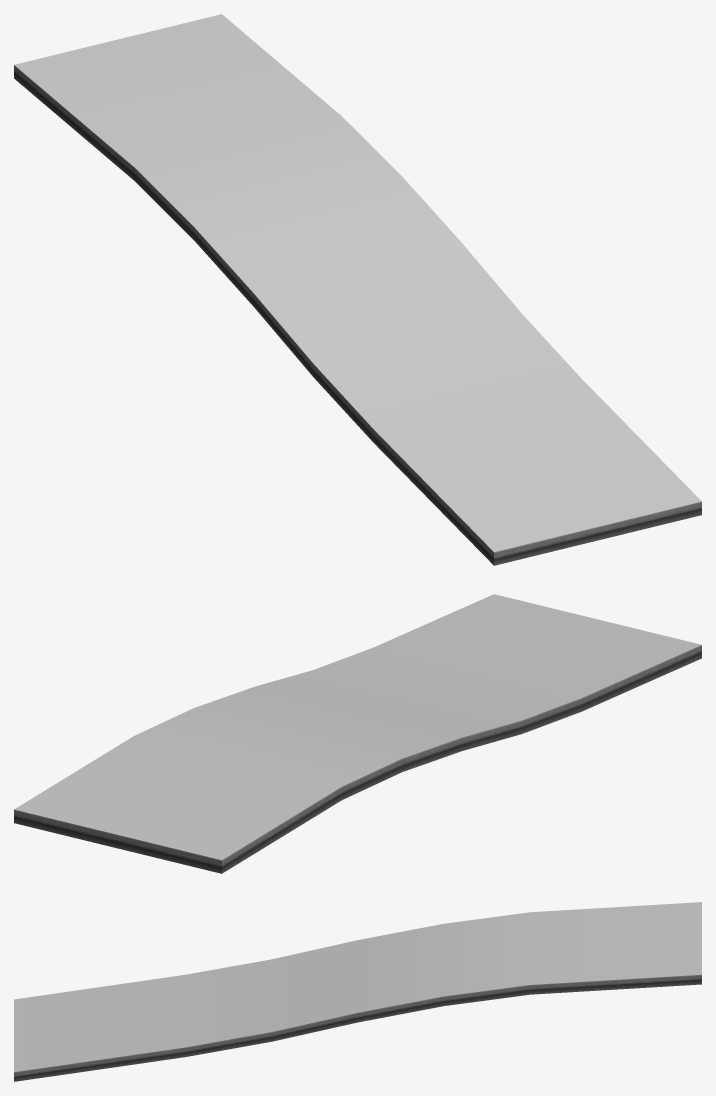
File: TrackRamp02.fbx
3 views of the same model, one above another, from view 1: azimuth 30°, elevation 25°; view 2: azimuth 150°, elevation 25°; view 3: azimuth 270°, elevation 25° (orthographic). The views are drawn at different scales.
Visible parts, largest first — view 1: Empty_Mesh; view 2: Empty_Mesh; view 3: Empty_Mesh.
Boxes of the visible parts, x1,y1,x2,y2 form: Empty_Mesh: (14, 14, 701, 565); Empty_Mesh: (14, 594, 701, 873); Empty_Mesh: (14, 902, 701, 1081).
Size of the model in its own units: 1600 by 1100 by 6400.
